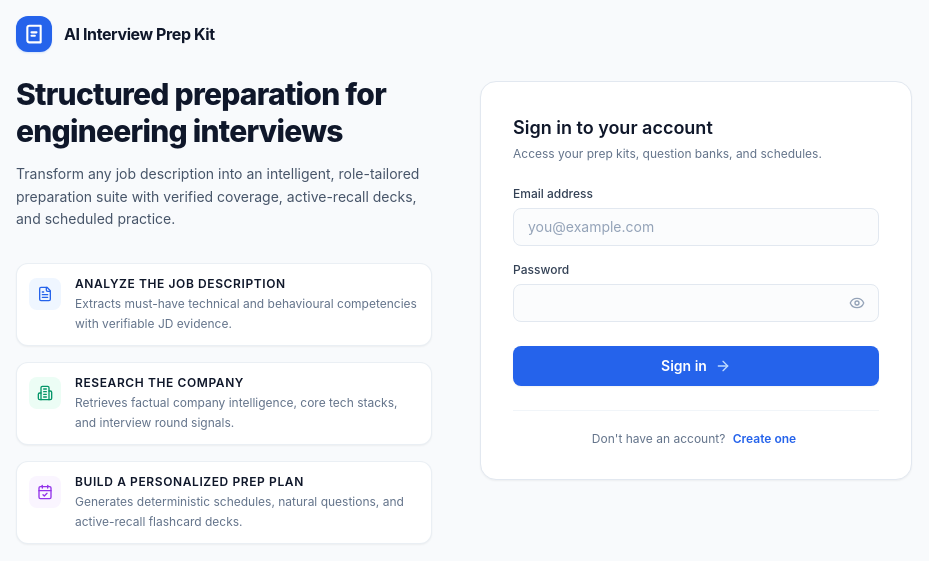
Test case: Frontend: Authentication › 3. client-side validates invalid email
In the field labelled "Email address": (696, 226) [513,208,879,246], type "notanemail"
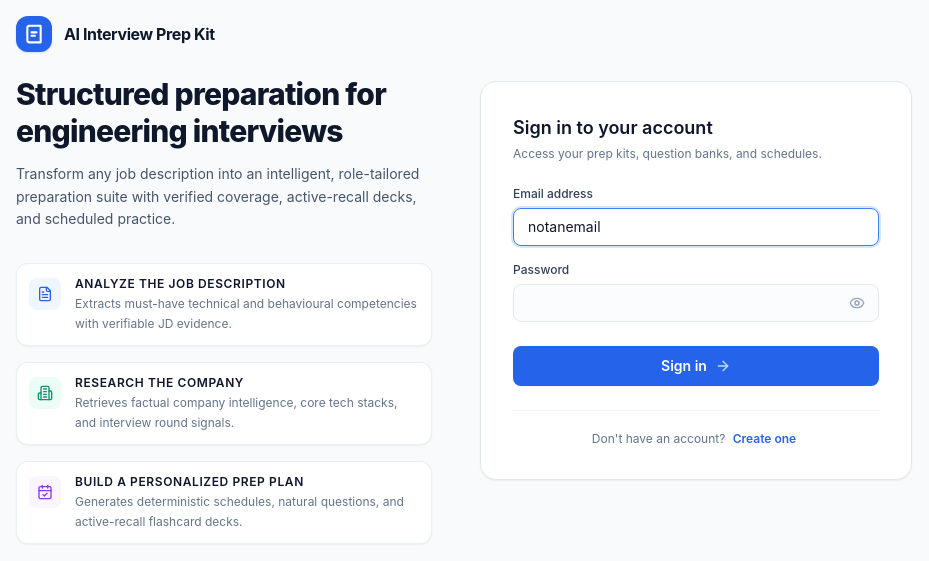
In the password field labelled "Password": (696, 302) [513,284,879,322], type "Password123!"
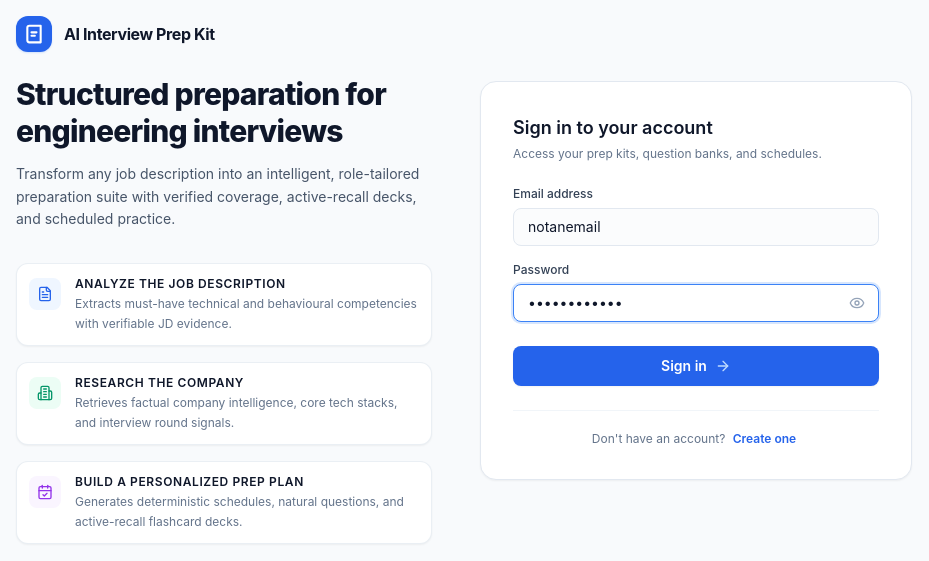
Click the button "Sign in": (696, 366) [513,346,879,386]
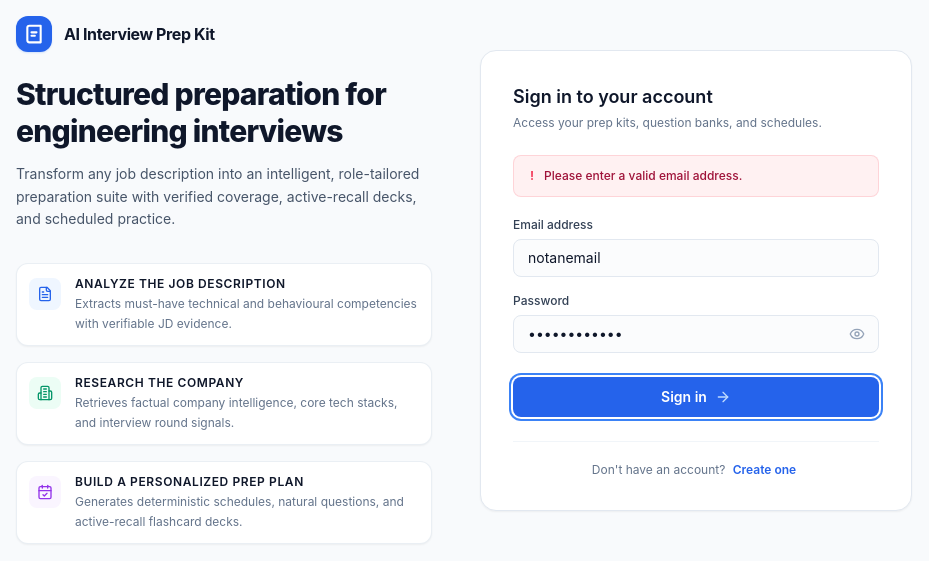
Check: the message "! Please enter a valid email address." is shown, box [513,154,879,196]
